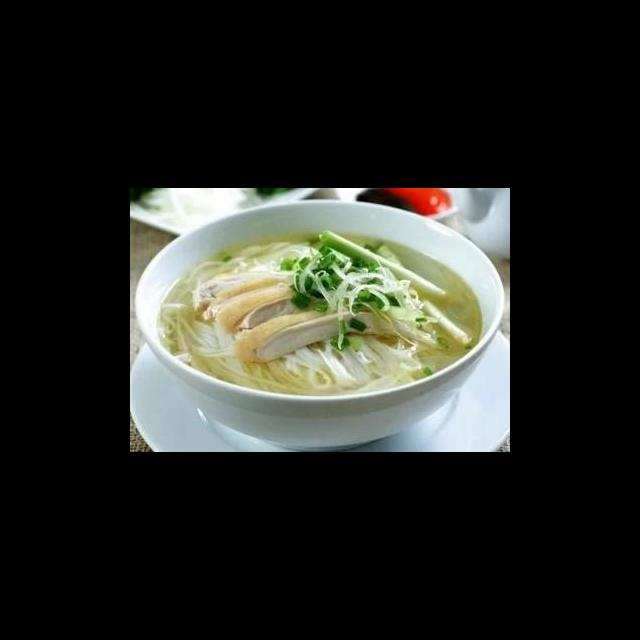banh pho: (258, 330, 432, 400), (156, 299, 260, 393), (180, 234, 322, 290)
pho ga: (141, 211, 506, 448)
thit ga: (230, 299, 407, 368), (212, 279, 326, 337), (188, 267, 301, 324)
